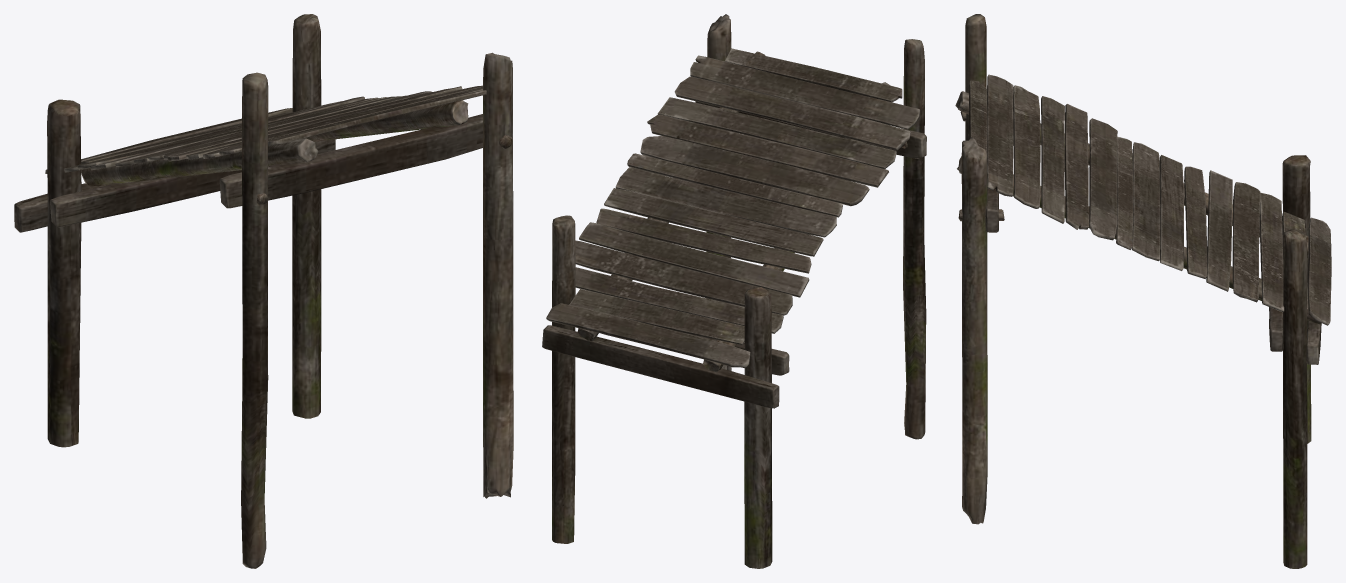
The picture shows the model from 3 angles, left to right: view 1: azimuth 30°, elevation 25°; view 2: azimuth 150°, elevation 25°; view 3: azimuth 270°, elevation 25°; orthographic projection. The views are drawn at different scales.
Visible parts, largest first — view 1: modular_wooden_pier_kit__f_lod1; view 2: modular_wooden_pier_kit__f_lod1; view 3: modular_wooden_pier_kit__f_lod1.
Part boxes in pixels (x1,y1,x2,y2): modular_wooden_pier_kit__f_lod1: (14, 14, 513, 568); modular_wooden_pier_kit__f_lod1: (542, 14, 926, 568); modular_wooden_pier_kit__f_lod1: (955, 14, 1331, 568).
Bounding box in the file's own units: 2.46 × 4.16 × 3.16.
Materials: 2 (2 with a texture image).
